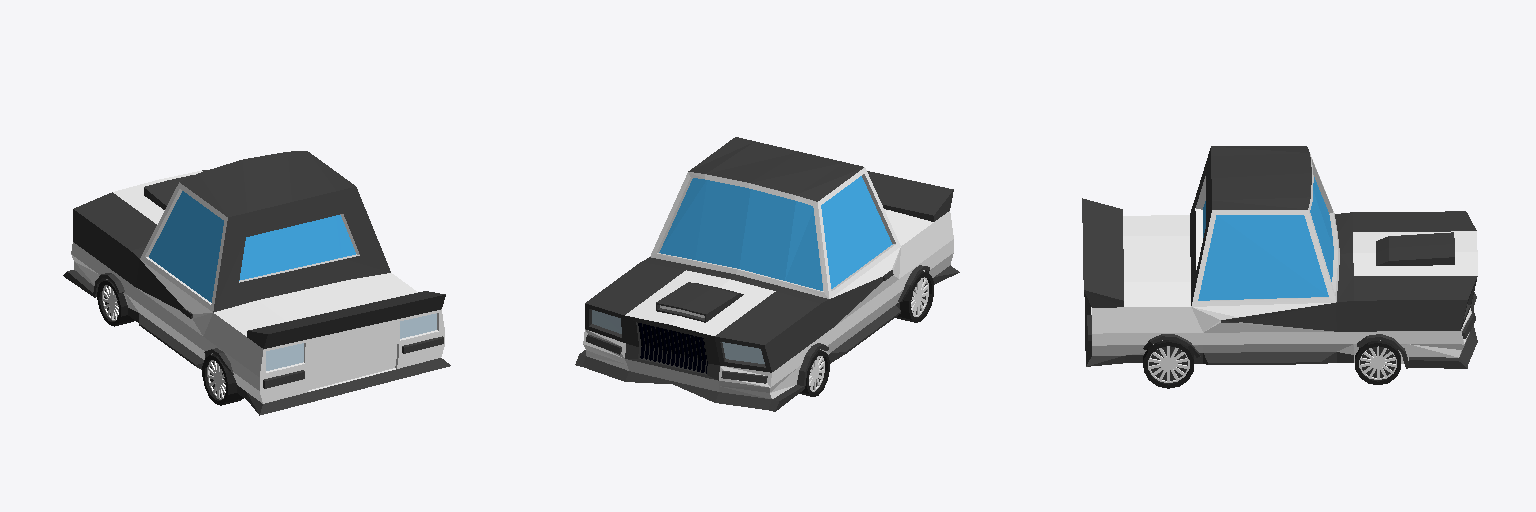
The model's file is Low-Poly-Racing-Car-Grey.obj.
3 renders of one model, left to right at view 1: azimuth 30°, elevation 25°; view 2: azimuth 150°, elevation 25°; view 3: azimuth 270°, elevation 25°, orthographic.
Visible parts, largest first — view 1: body_ID56, backlight_ID75, wheel.1_ID84, wheel1.1_ID93; view 2: body_ID56, lattice.1_ID29, wheel.1_ID84, headlight_ID66, wheel1.1_ID93; view 3: body_ID56, wheel.1_ID84, wheel1.1_ID93.
Part boxes in pixels (bbox=[...]): body_ID56: bbox=[63, 151, 450, 415]; backlight_ID75: bbox=[266, 313, 436, 370]; wheel.1_ID84: bbox=[202, 354, 243, 405]; wheel1.1_ID93: bbox=[97, 279, 134, 326]; body_ID56: bbox=[575, 137, 959, 411]; lattice.1_ID29: bbox=[638, 323, 707, 373]; wheel.1_ID84: bbox=[895, 271, 933, 322]; headlight_ID66: bbox=[592, 310, 764, 363]; wheel1.1_ID93: bbox=[799, 350, 829, 396]; body_ID56: bbox=[1082, 146, 1477, 368]; wheel.1_ID84: bbox=[1143, 340, 1193, 388]; wheel1.1_ID93: bbox=[1355, 340, 1400, 384].
Size of the model in its own units: 1.39 by 1.11 by 2.37.